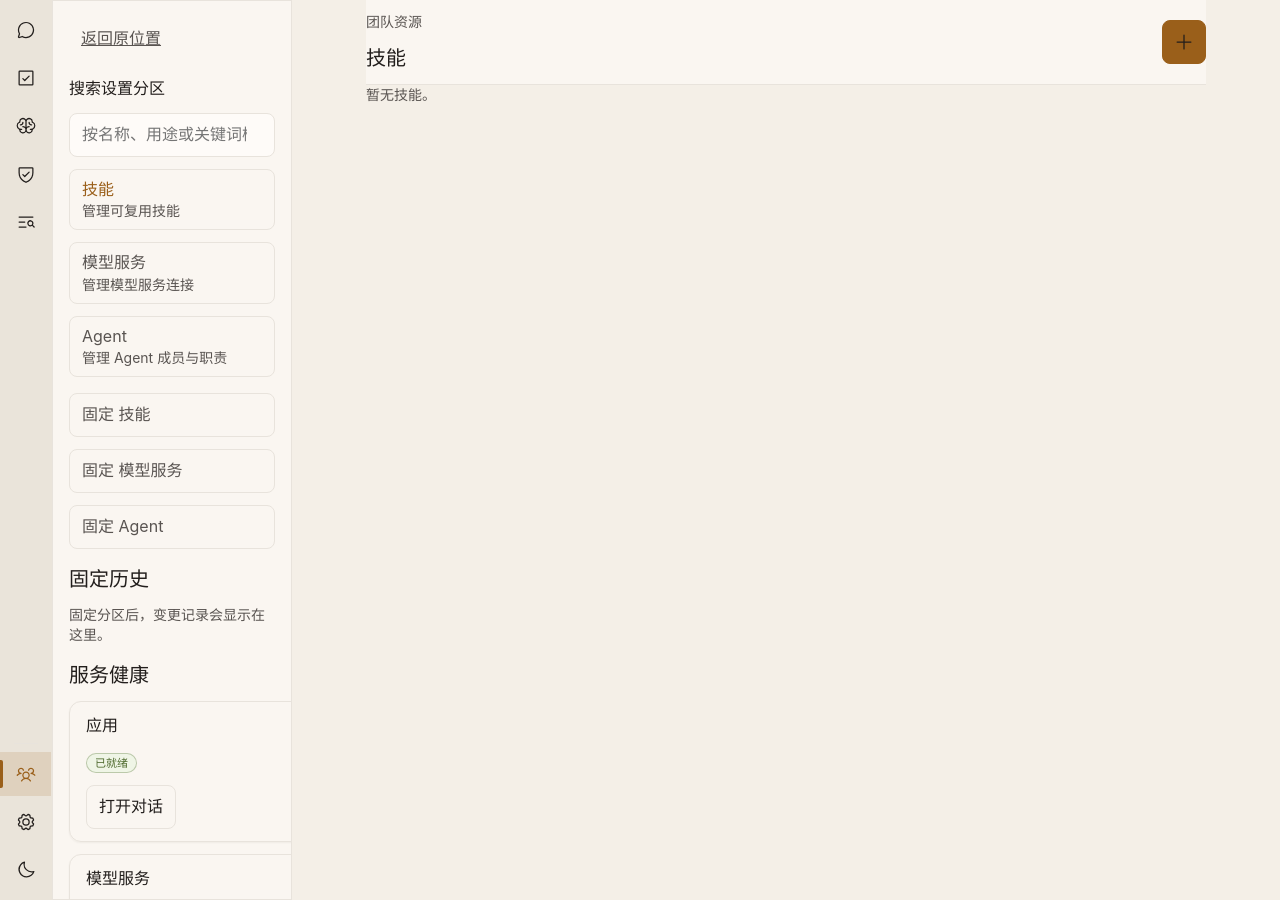
Scenario: Skill panel › preserves a failed draft and supports a keyboard-only create path
This screenshot has width=1280, height=900.
Expected: the text "暂无技能。" is shown, [366,86,436,103]
Click the button named "创建新技能".
click(1184, 42)  # box [1162,20,1206,64]
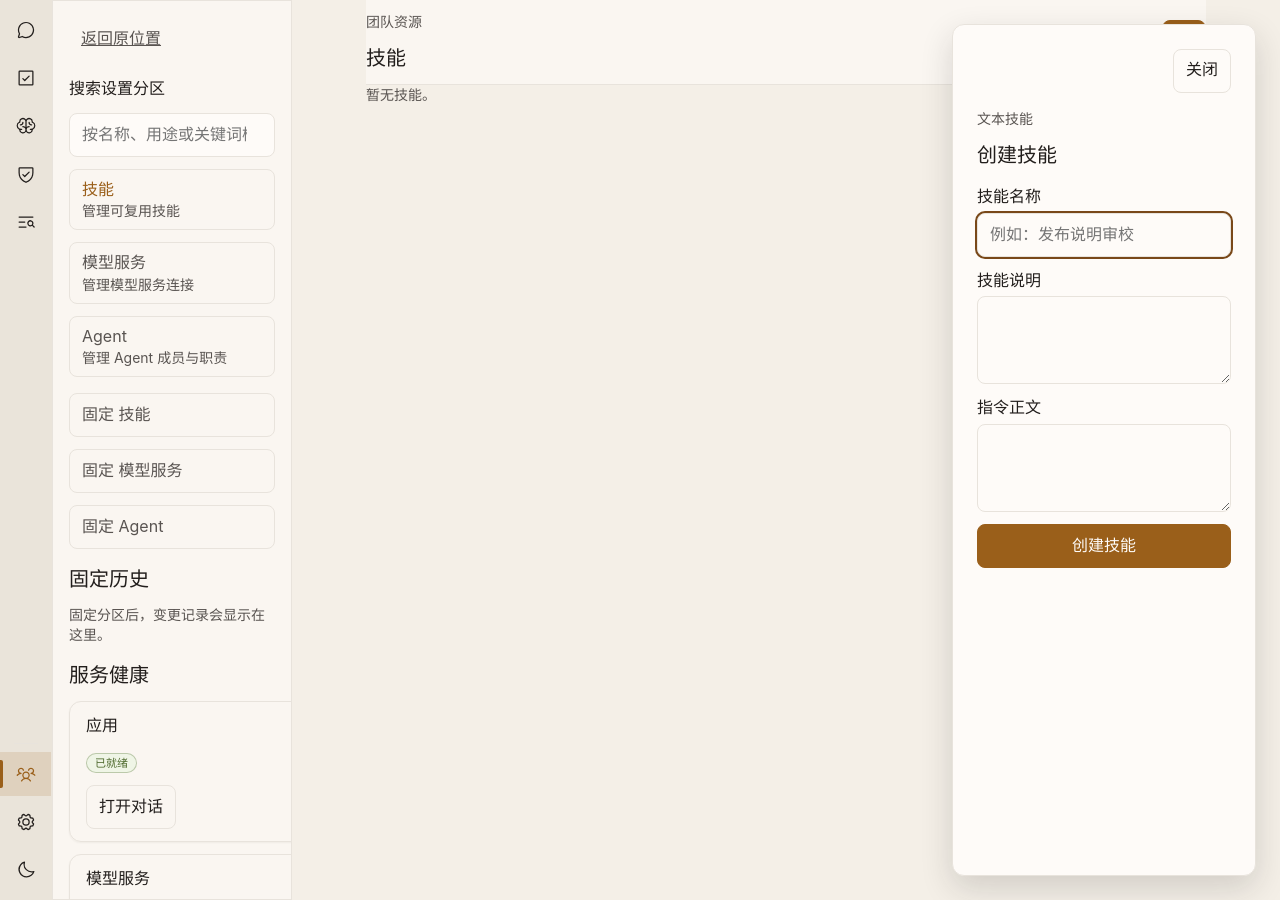
Type "Builder" into the field labelled "技能名称".
click(1104, 234); type("Builder")  # box [977,212,1231,256]
Press Tab
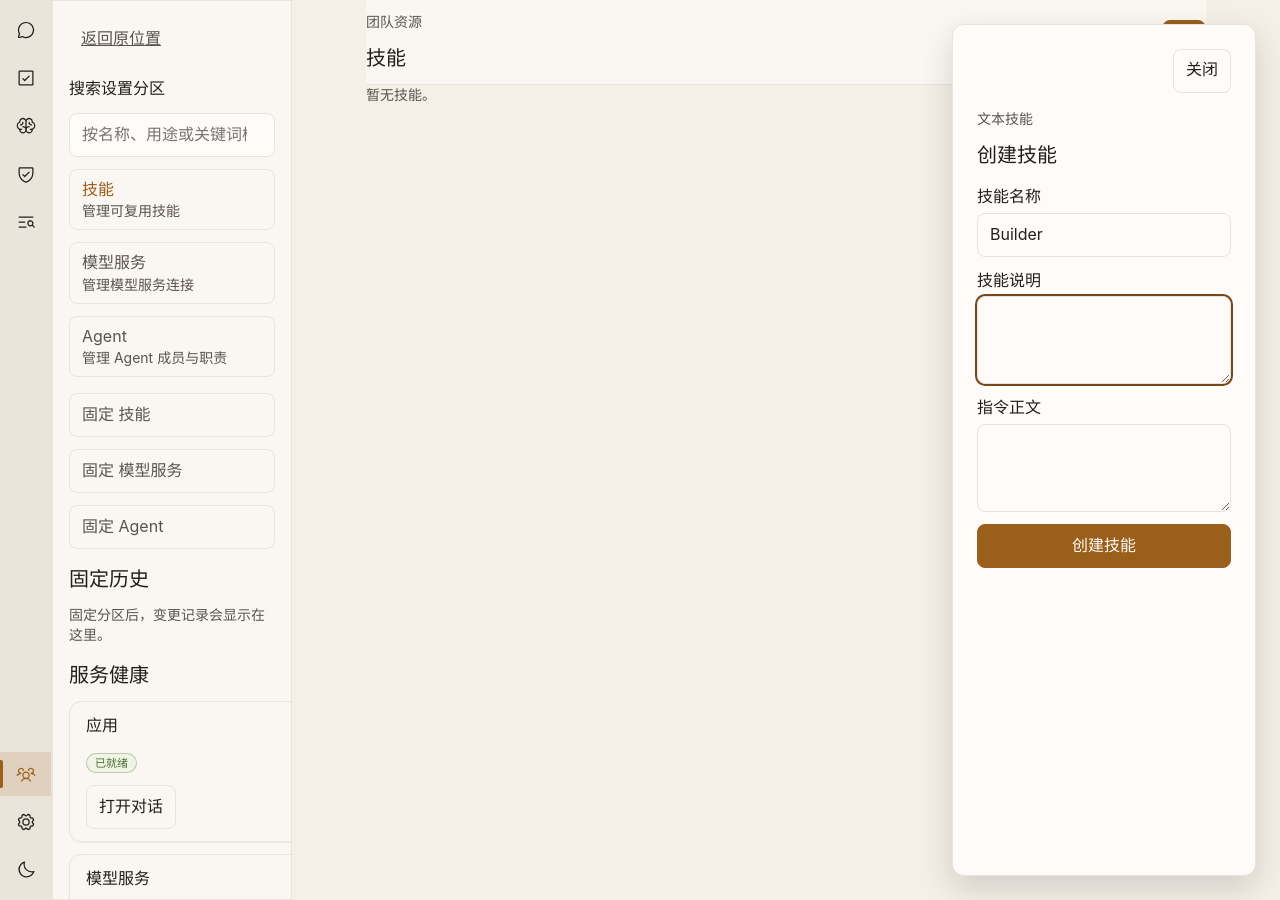
Type "Draft notes" into the text box labelled "技能说明".
click(1104, 340); type("Draft notes")  # box [977,296,1231,384]
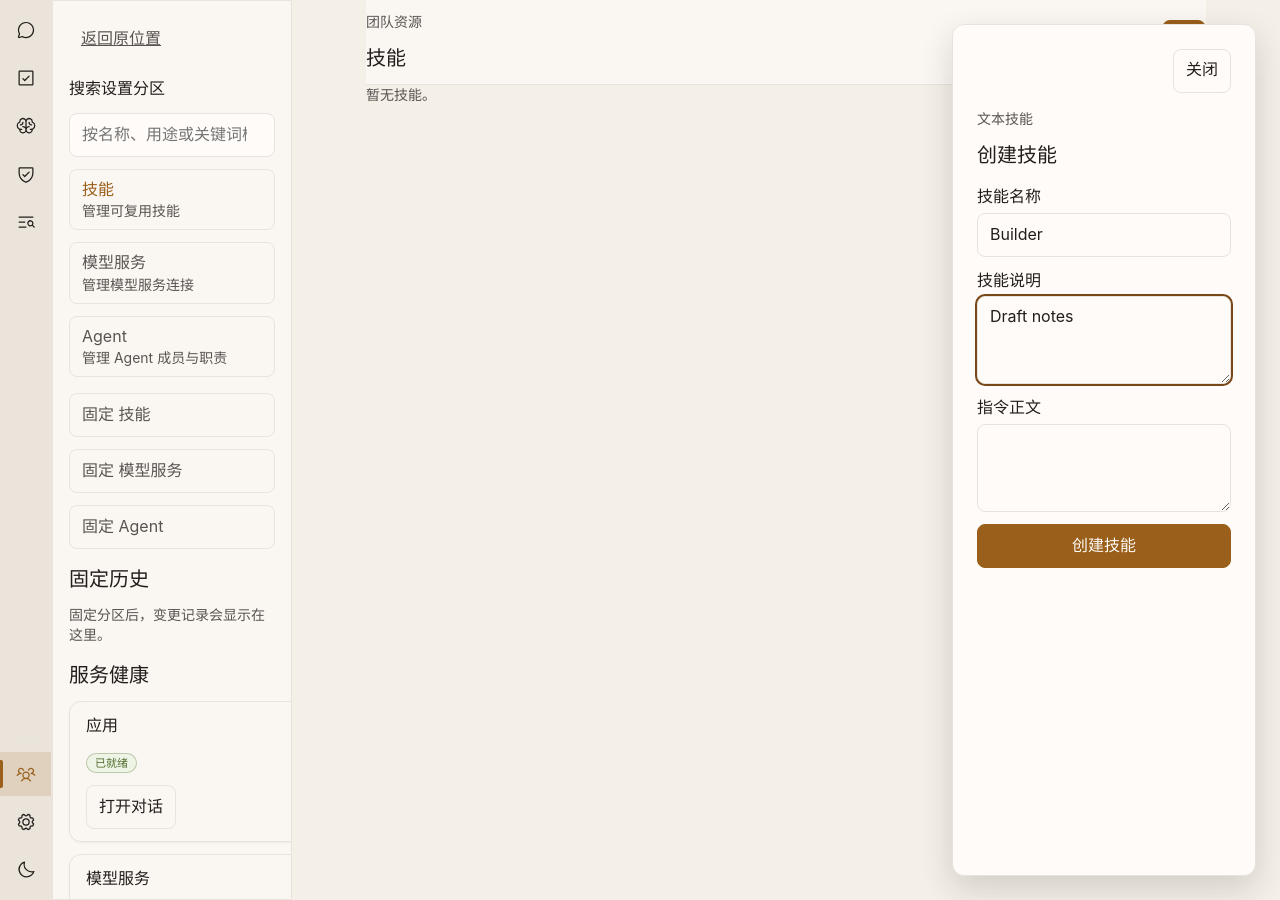
Press Tab
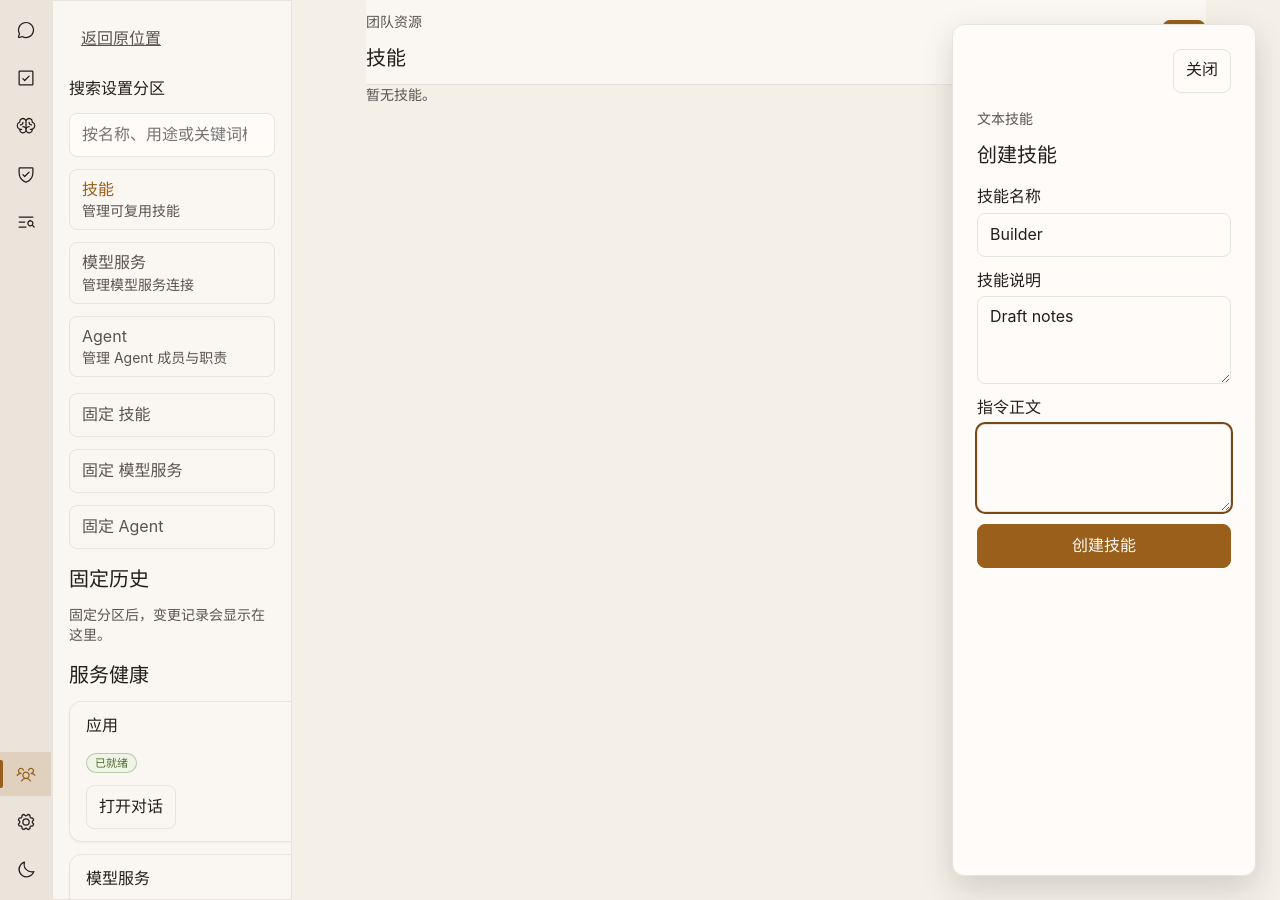
Type "Draft instructions" into the text box labelled "指令正文".
click(1104, 468); type("Draft instructions")  # box [977,424,1231,512]
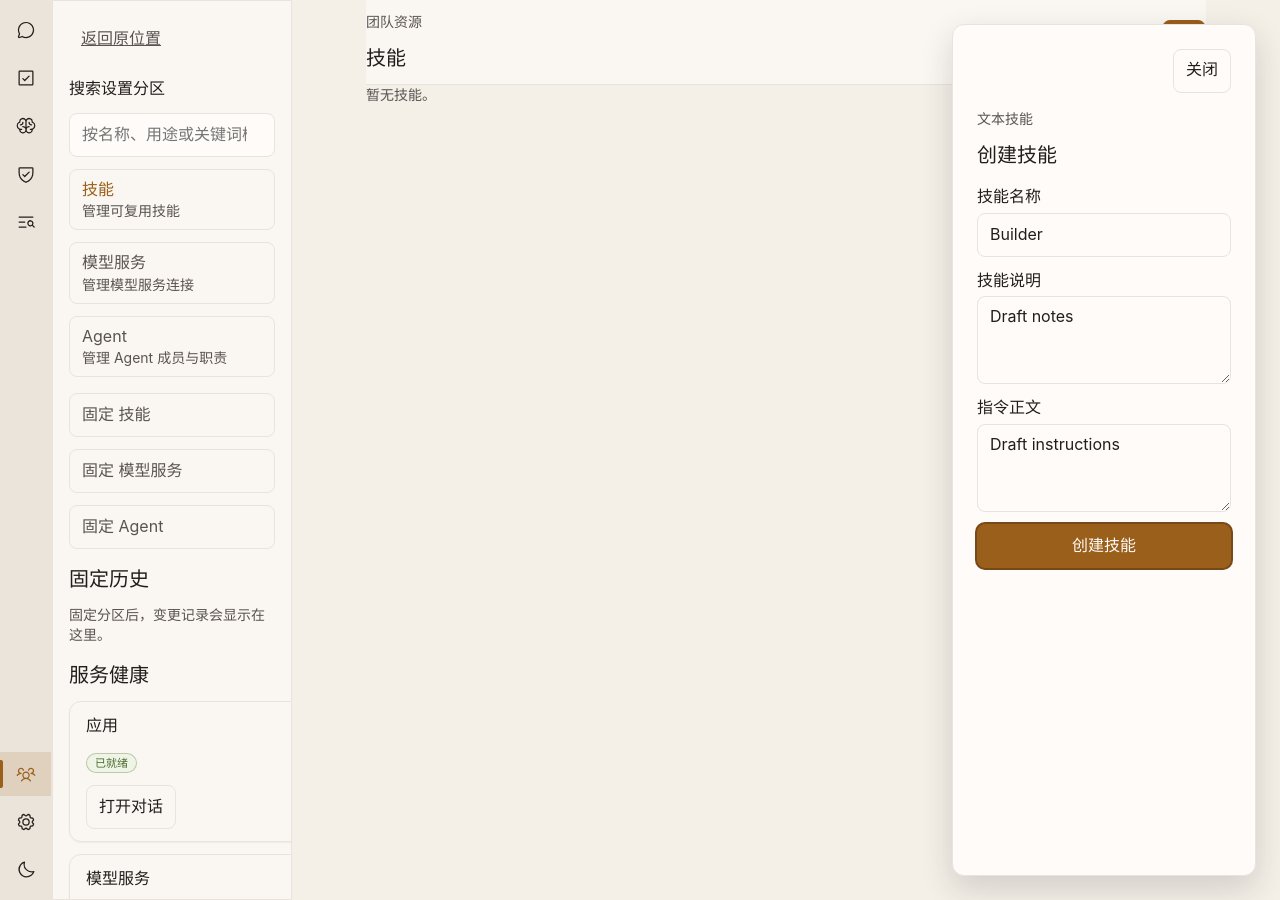
Press Enter
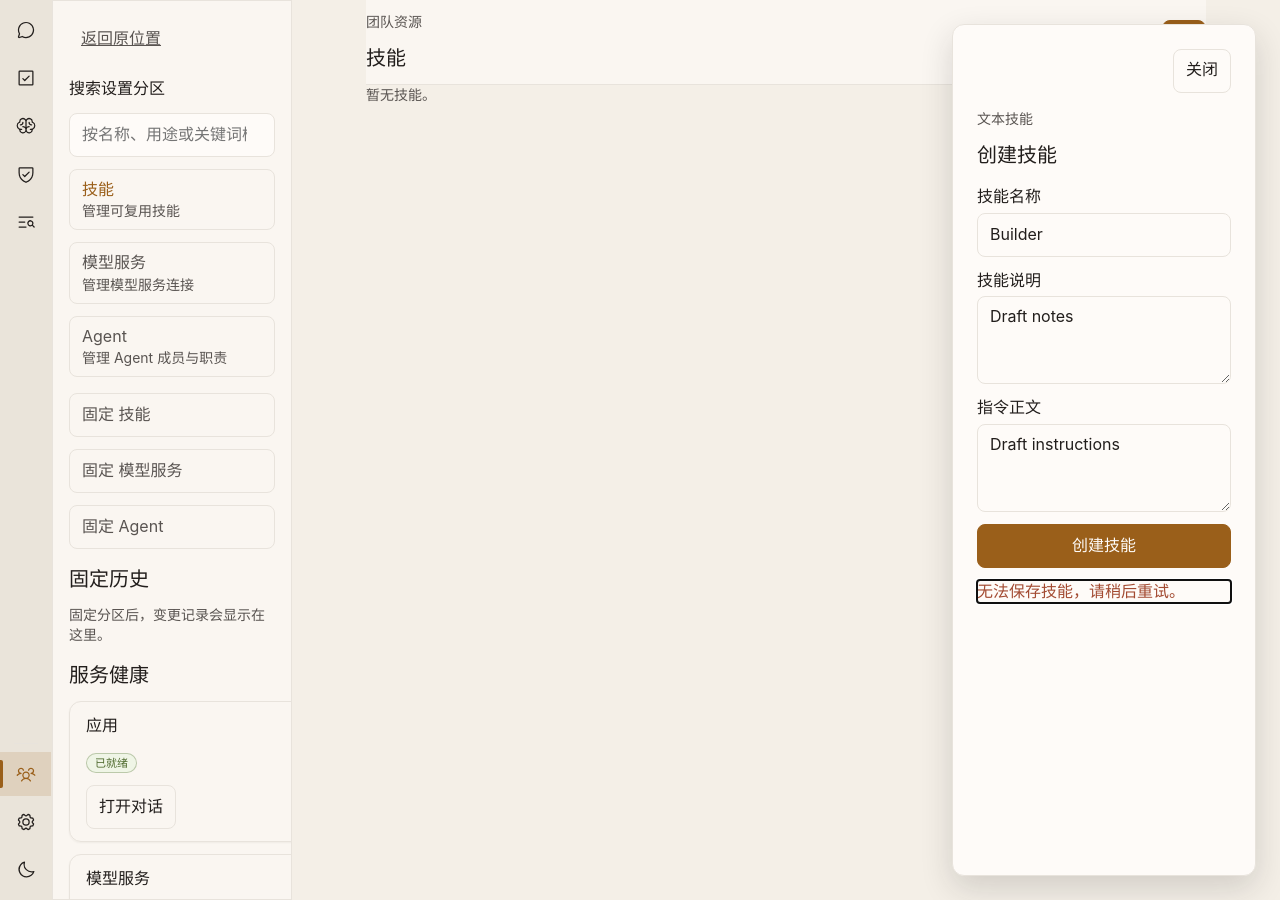
Result: the message reads "无法保存技能，请稍后重试。" at [977,581,1185,601]
